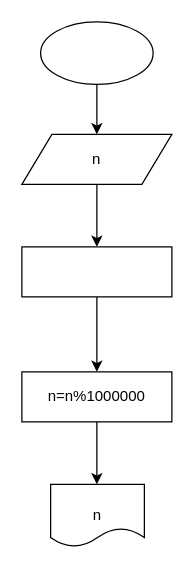
Image size: 194x569. Some labels were removed from this diagram. Each missing label, with the centre of its shape:
"basla" goes at (96,52).
"n=n/10" goes at (96,271).
